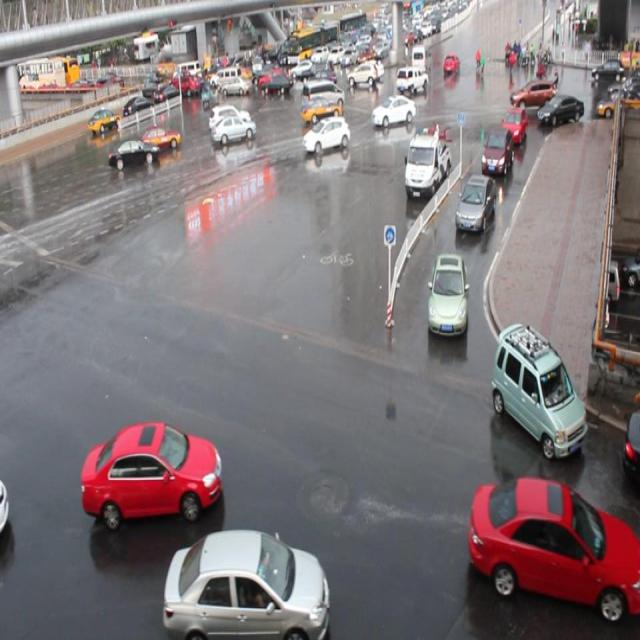bus: (402, 133, 450, 199)
car: (466, 476, 640, 617), (161, 526, 330, 640), (80, 418, 223, 528), (490, 321, 586, 458), (427, 252, 468, 338), (453, 173, 496, 234), (302, 115, 349, 153), (536, 91, 582, 128), (480, 126, 513, 176), (108, 135, 161, 166), (372, 93, 415, 127), (510, 77, 554, 109), (208, 101, 252, 131), (138, 123, 182, 152), (211, 114, 256, 142), (299, 97, 342, 125), (498, 106, 526, 145)
truck: (301, 78, 344, 112)
